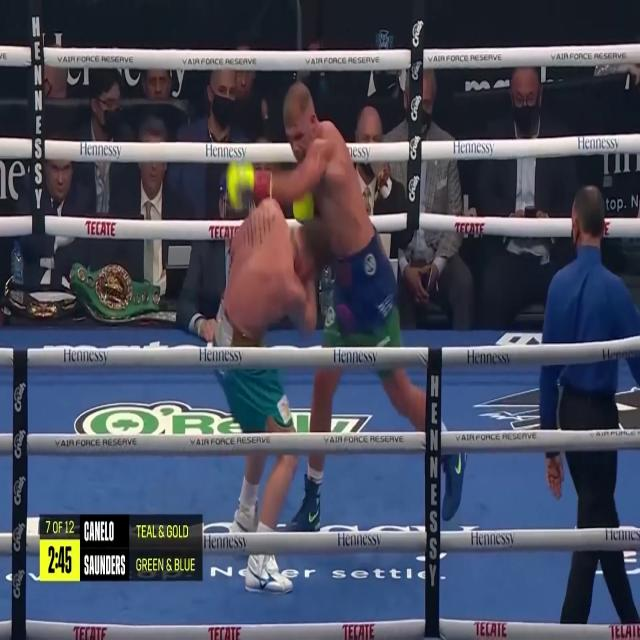boxer_1: (284, 83, 374, 258)
boxer_2: (224, 199, 327, 337)
gloves_1: (227, 162, 271, 209), (292, 190, 314, 224)
